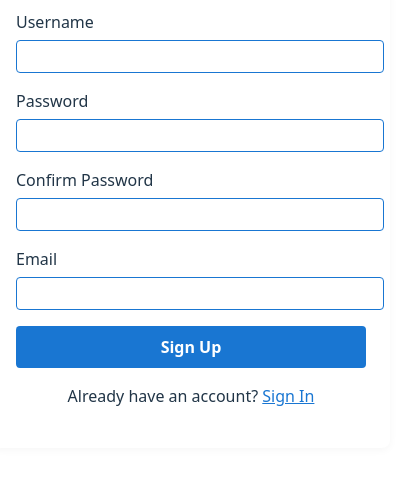
Scenario: SignupForm › shows error if username or password is too short
The width and height of the screenshot is (401, 487).
Type "mo" into the field labelled "Username" at (200, 56), box 16,40 -> 384,73
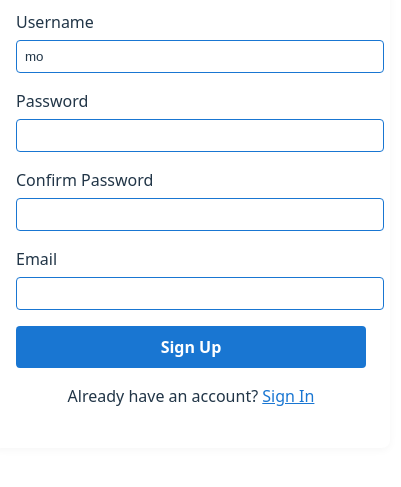
Type "480" into the password field labelled "Password" at (200, 136), box 16,119 -> 384,152
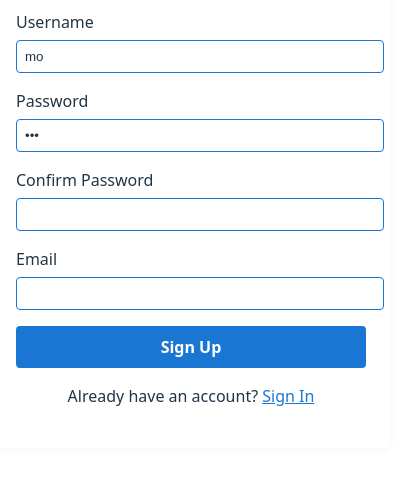
Type "480" into the password field labelled "Confirm Password" at (200, 214), box 16,198 -> 384,231
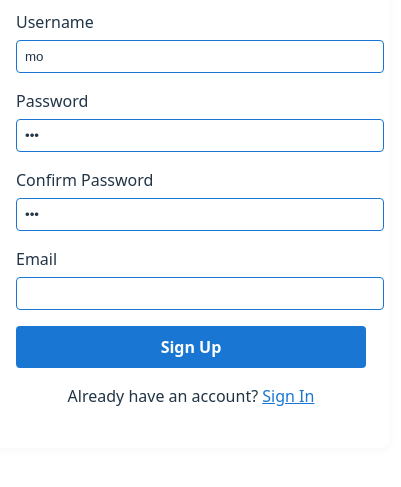
Type "fatty@email.com" into the field labelled "Email" at (200, 294), box 16,277 -> 384,310
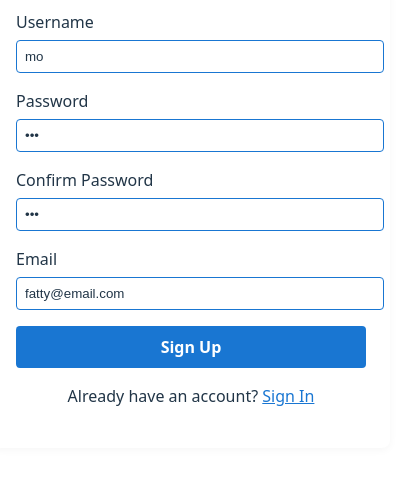
Click the button "Sign Up" at (191, 347), box 16,326 -> 366,368
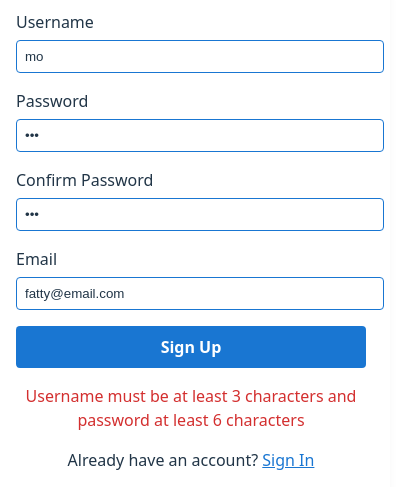
Now the text "Username must be at least 3 characters and password at least 6 characters" is shown, box 16,384 -> 366,432
